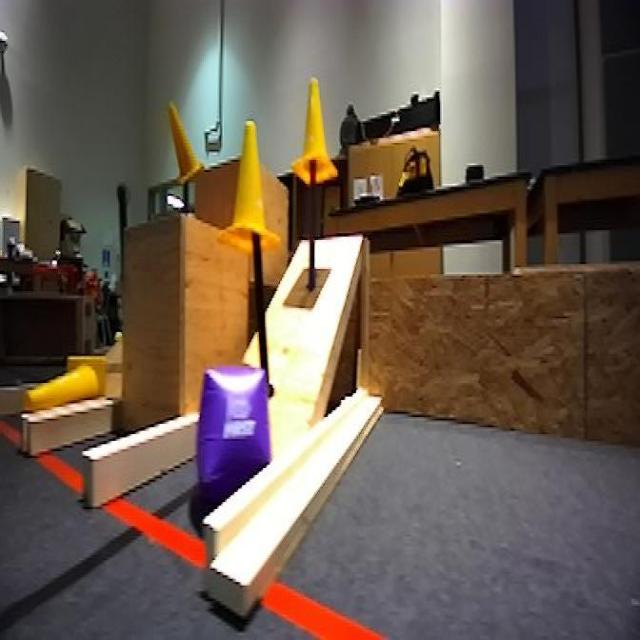frc_cone: (225, 128, 280, 248), (19, 351, 109, 422), (292, 76, 338, 184), (167, 89, 202, 187)
frc_cube: (192, 359, 272, 507)
